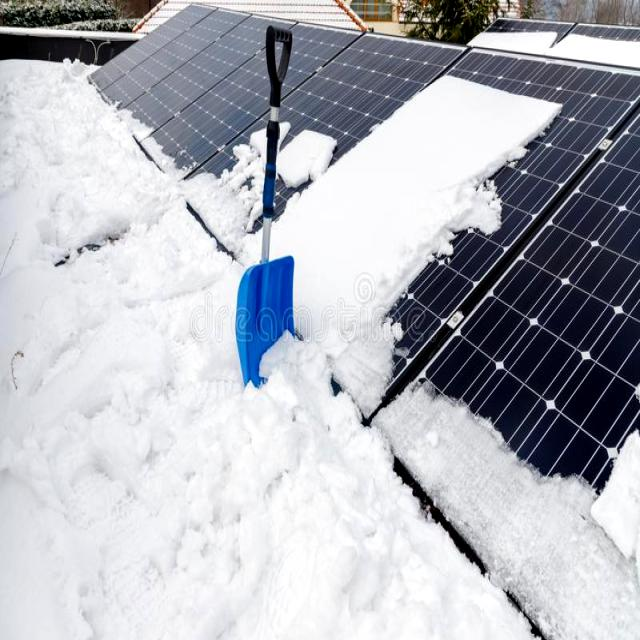panel: (430, 482, 635, 604), (441, 76, 562, 178), (384, 347, 462, 487), (278, 207, 356, 321), (361, 134, 437, 236), (334, 314, 406, 410), (116, 84, 186, 173), (190, 156, 260, 240), (274, 116, 344, 189)
